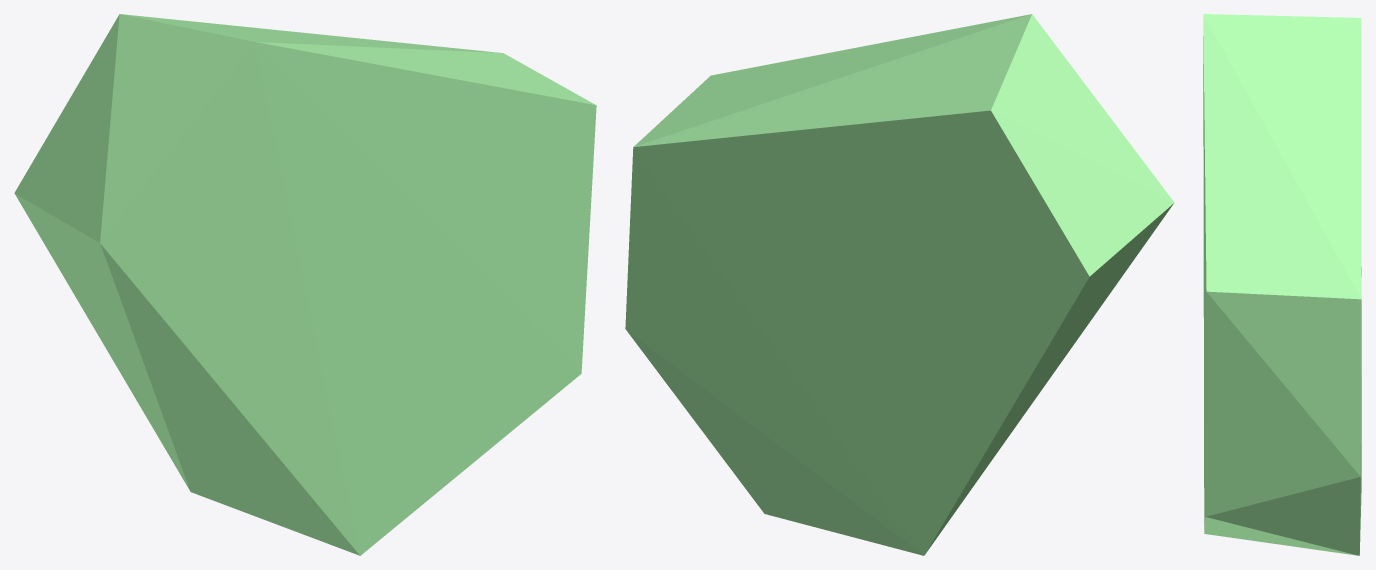
File: linkhou_LR4_R560_link6_respondable_coll_16.dae
The picture shows the model from 3 angles, left to right: view 1: azimuth 30°, elevation 25°; view 2: azimuth 150°, elevation 25°; view 3: azimuth 270°, elevation 25°; orthographic projection. The views are drawn at different scales.
Visible parts, largest first — view 1: Node_00000209DB3AD9B0; view 2: Node_00000209DB3AD9B0; view 3: Node_00000209DB3AD9B0.
Boxes of the visible parts, x1,y1,x2,y2 form: Node_00000209DB3AD9B0: (14, 14, 596, 555); Node_00000209DB3AD9B0: (625, 14, 1174, 555); Node_00000209DB3AD9B0: (1203, 14, 1361, 555).
Bounding box in the file's own units: 0.053 × 0.0546 × 0.0165.
